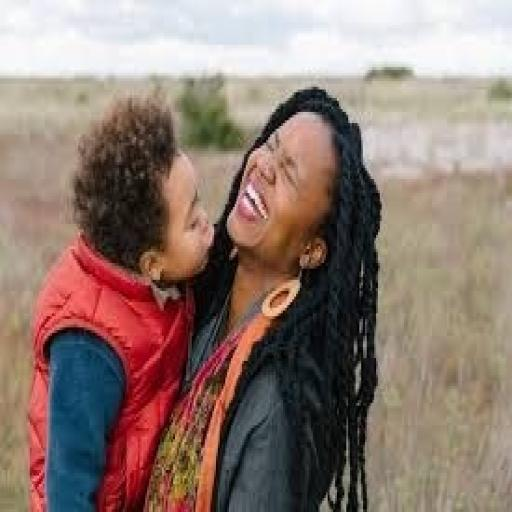hugging: (142, 84, 384, 509), (24, 87, 218, 509)
